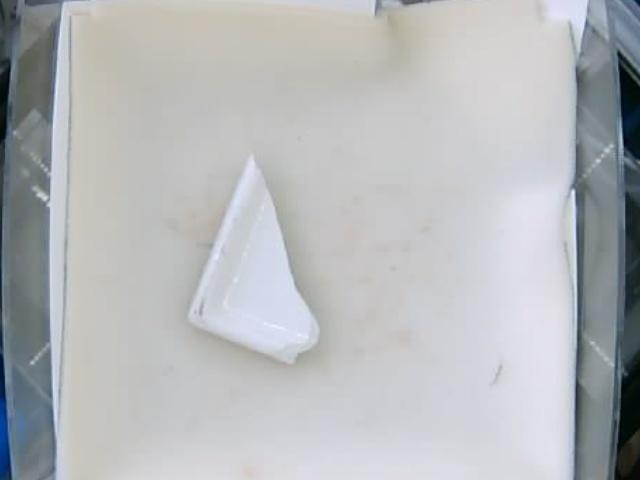China: (191, 156, 320, 362)
